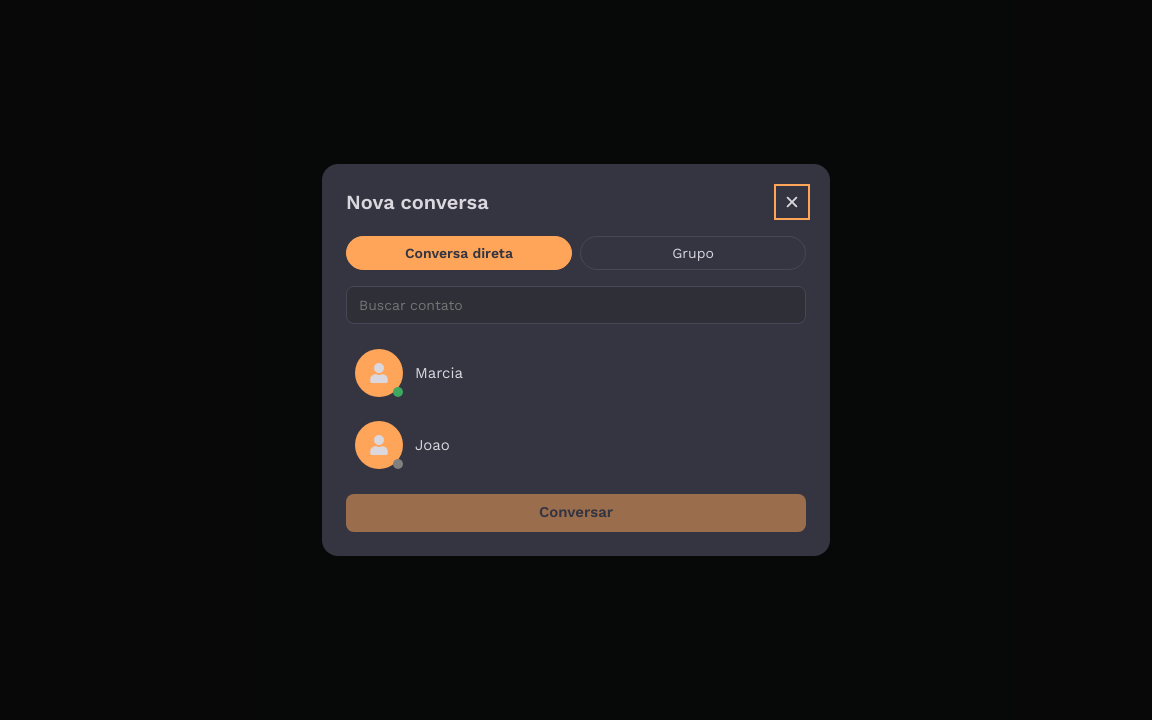
Scenario: NewChatModal · criar grupo › so avanca depois de alguem ser escolhido
Click the tab "Grupo".
click(693, 253)  # box [580,236,806,270]
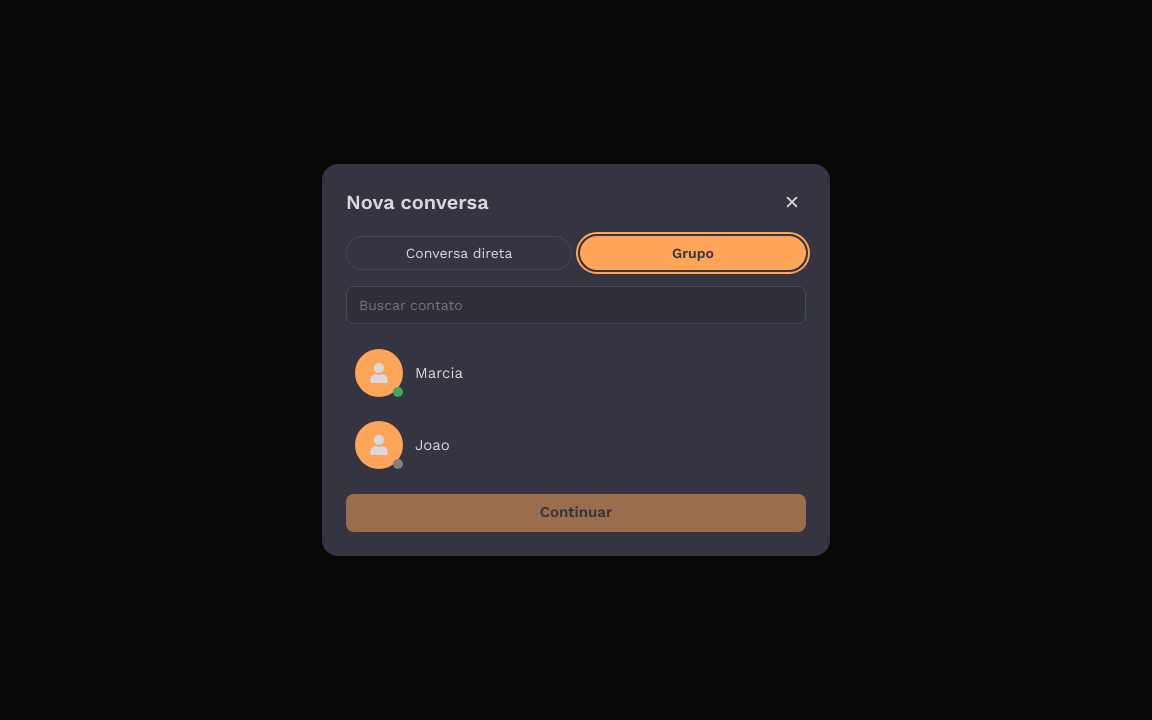
Check: the button "Continuar" is disabled, box [346,494,806,532]
Click the button "Marcia".
click(379, 373)  # box [346,340,806,406]
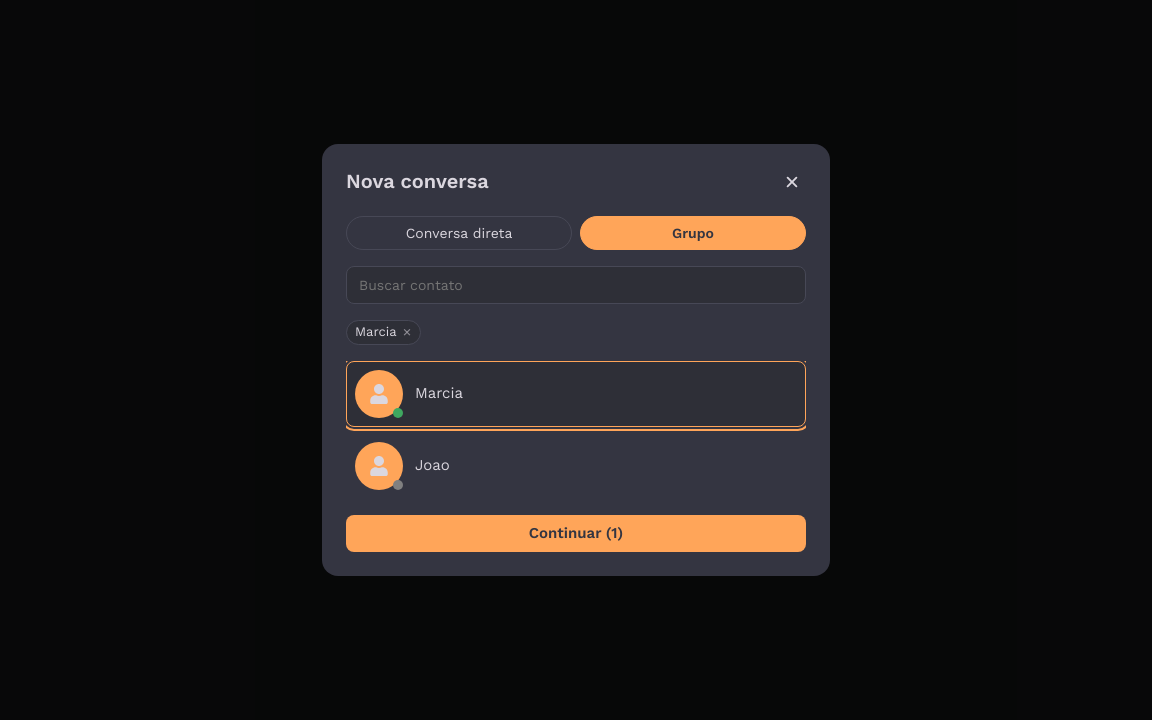
Check: the button "Continuar (1)" is enabled, box [346,515,806,552]
